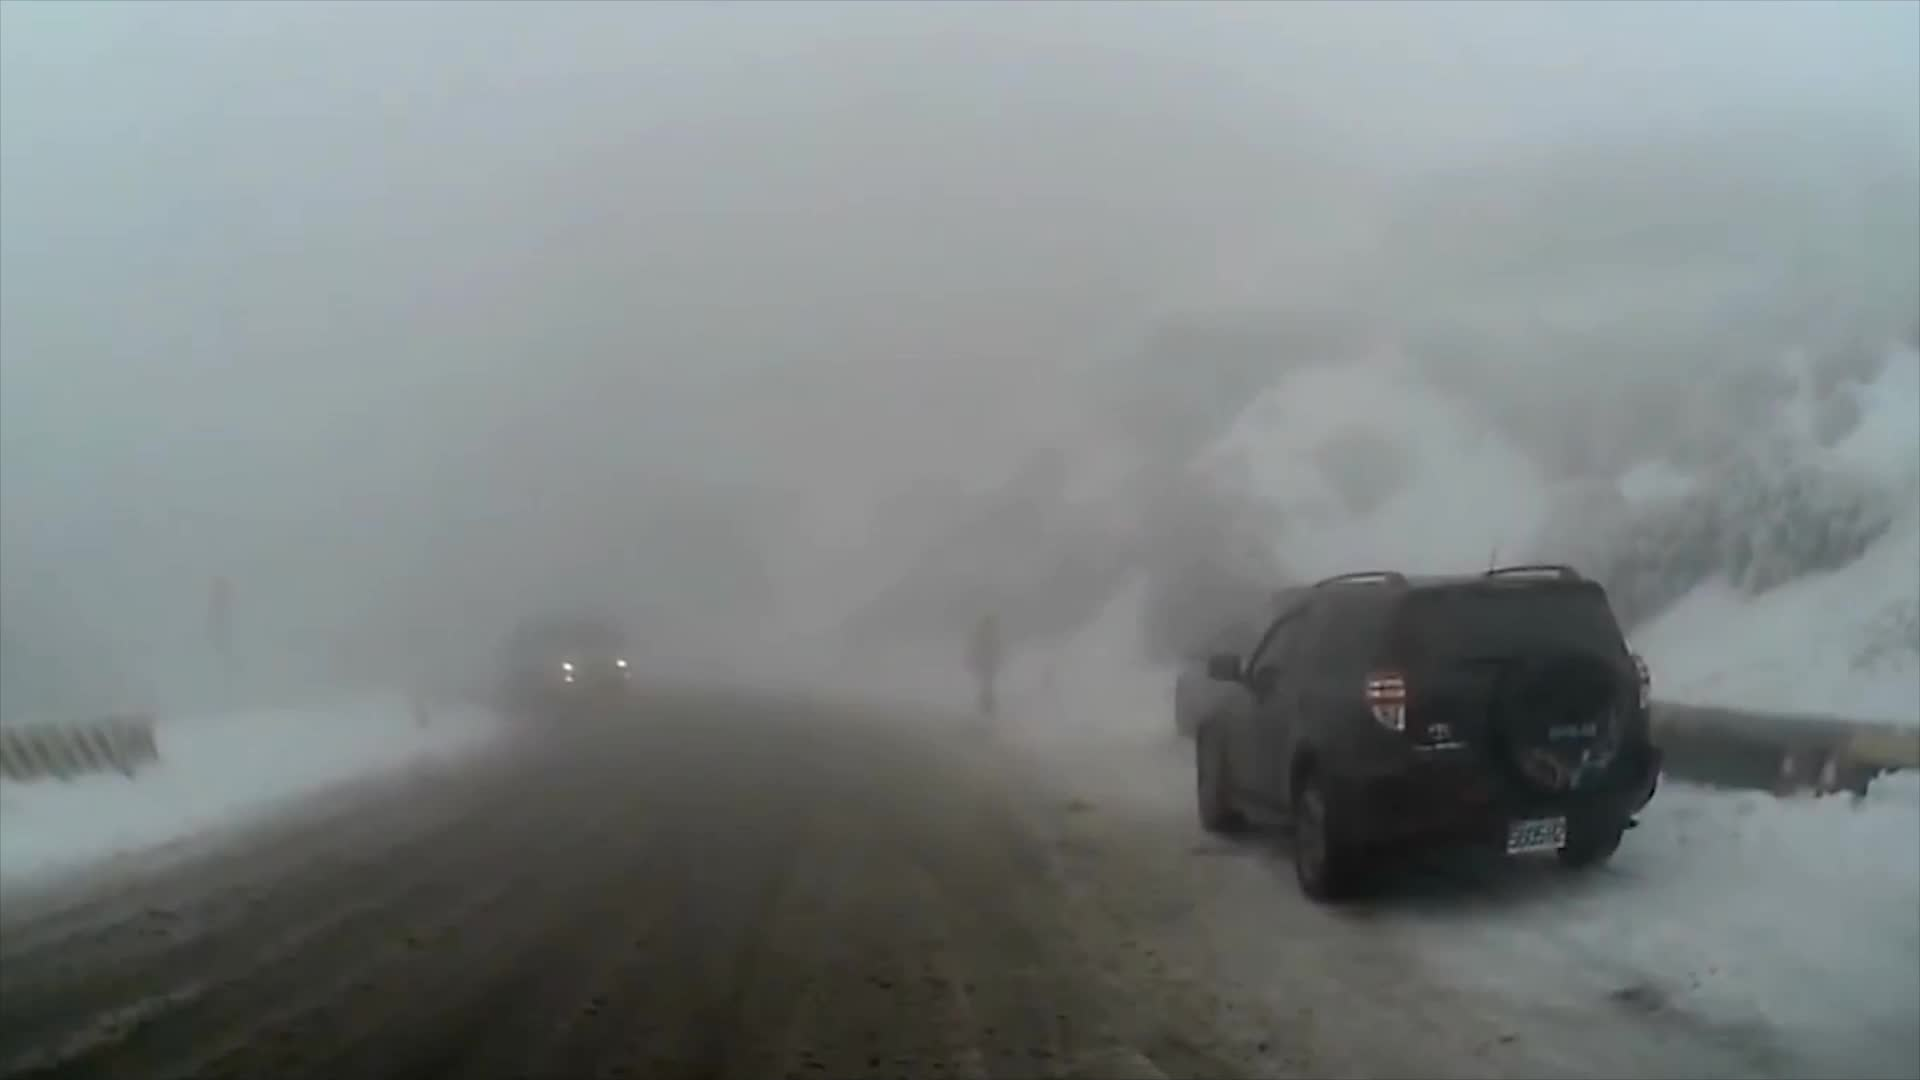vehicle: (1192, 555, 1660, 903), (502, 620, 640, 716)
